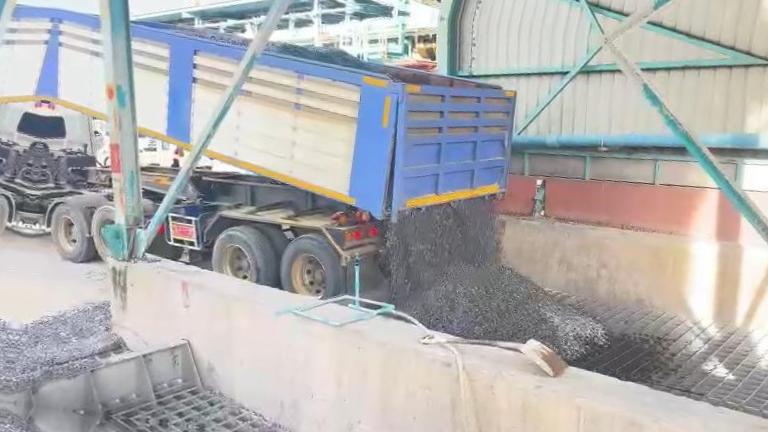gravel: (385, 198, 607, 360), (7, 302, 122, 390), (265, 40, 397, 80), (164, 25, 250, 46)
